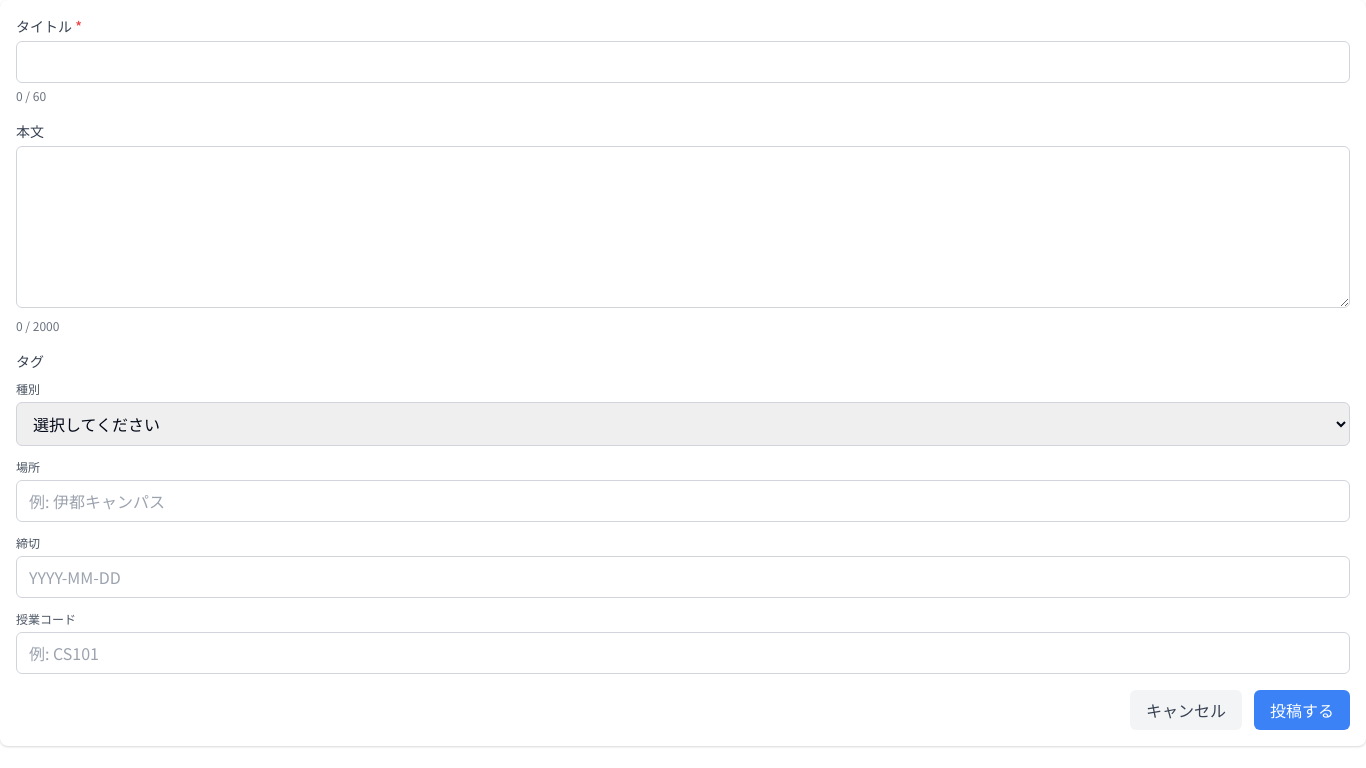
ThreadForm › displays character counter for title
In the field labelled "タイトル *": (683, 62) [16,41,1350,83], type "Test Title"
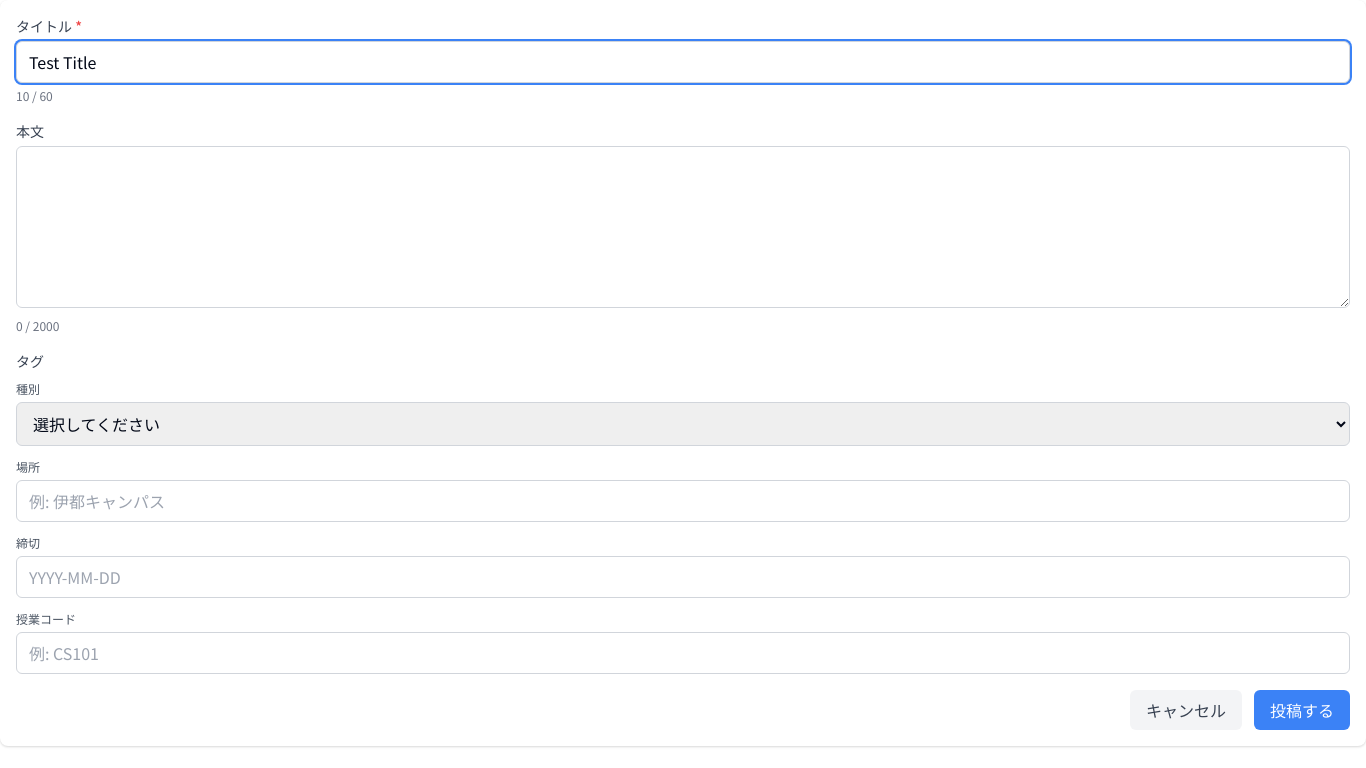
Expected: the text "10 / 60" is shown, [16,87,53,105]
